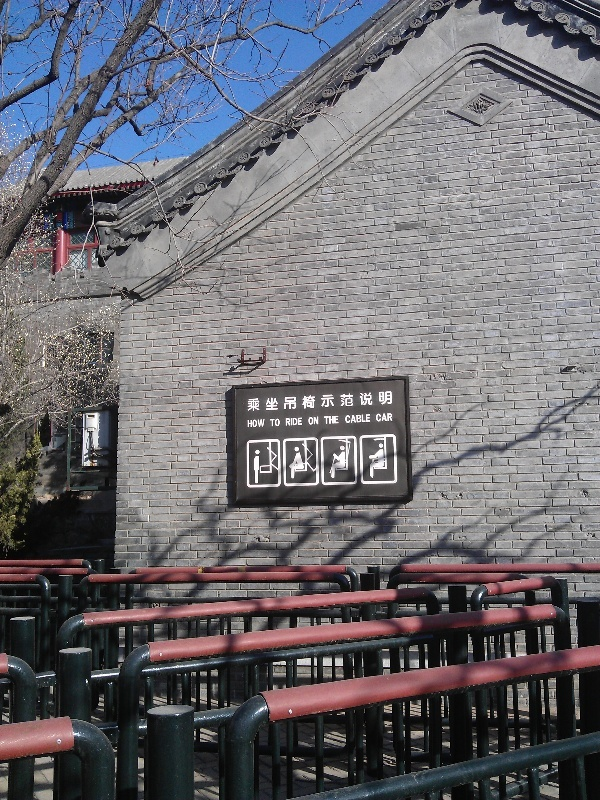text: (257, 390, 272, 413), (273, 390, 288, 413), (289, 390, 304, 413), (305, 390, 320, 413), (321, 390, 336, 413), (337, 390, 352, 413), (353, 390, 368, 413), (369, 390, 384, 413), (246, 390, 256, 413), (385, 390, 394, 413), (353, 414, 368, 425), (289, 417, 304, 427), (308, 416, 320, 426), (324, 416, 336, 426), (257, 419, 267, 429), (247, 419, 256, 429), (385, 413, 394, 423), (273, 418, 281, 428), (376, 413, 384, 423), (345, 414, 352, 425), (369, 414, 372, 425), (285, 417, 288, 427), (337, 416, 340, 426), (270, 418, 272, 428)
